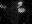person: (1, 3, 7, 9), (18, 9, 25, 14), (19, 1, 23, 6)
